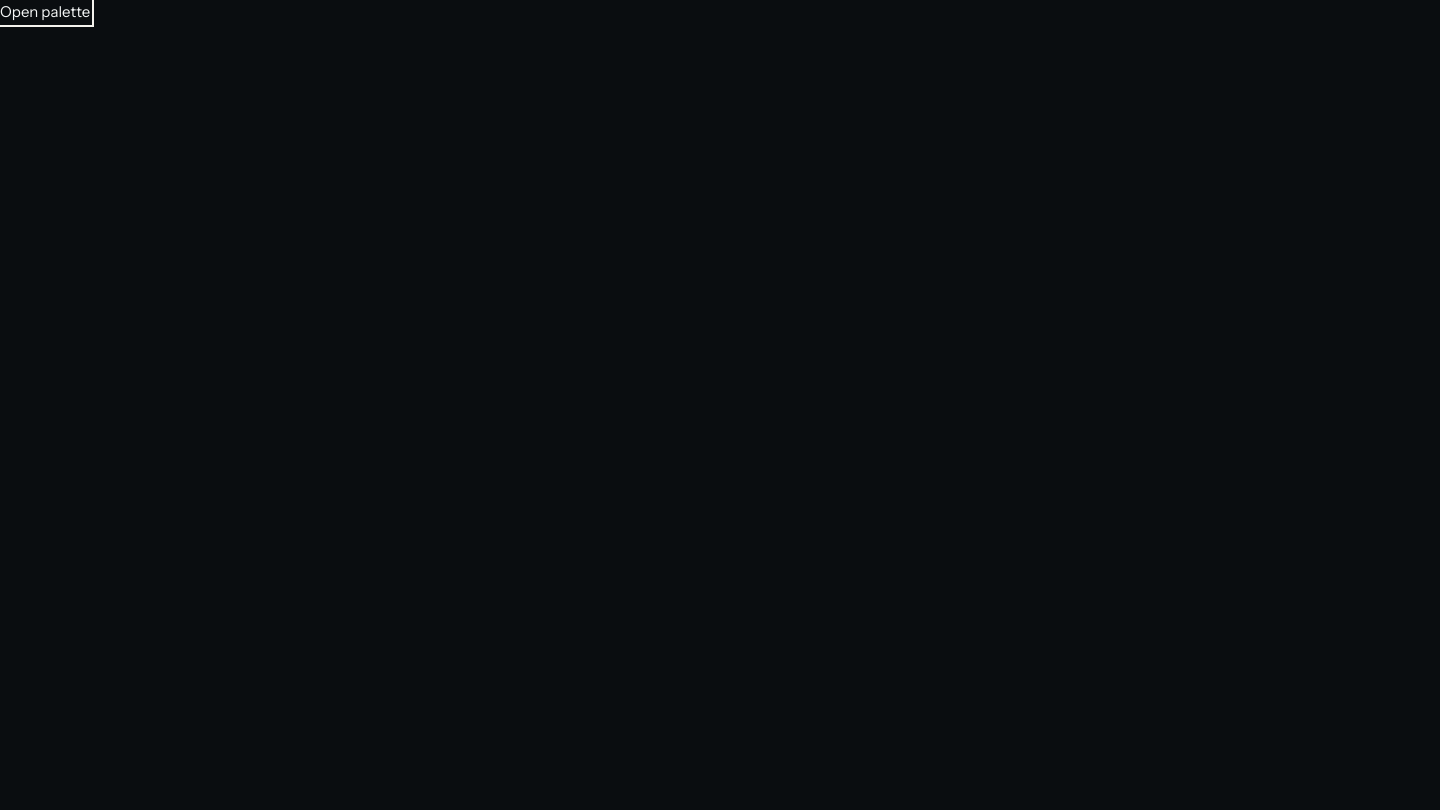
Scenario: the quick switcher: scope and order (docs/index-spec.md §4.2) › says so, and still offers the message search, when nothing matches
Type keys "{Control>}k{/Control}"
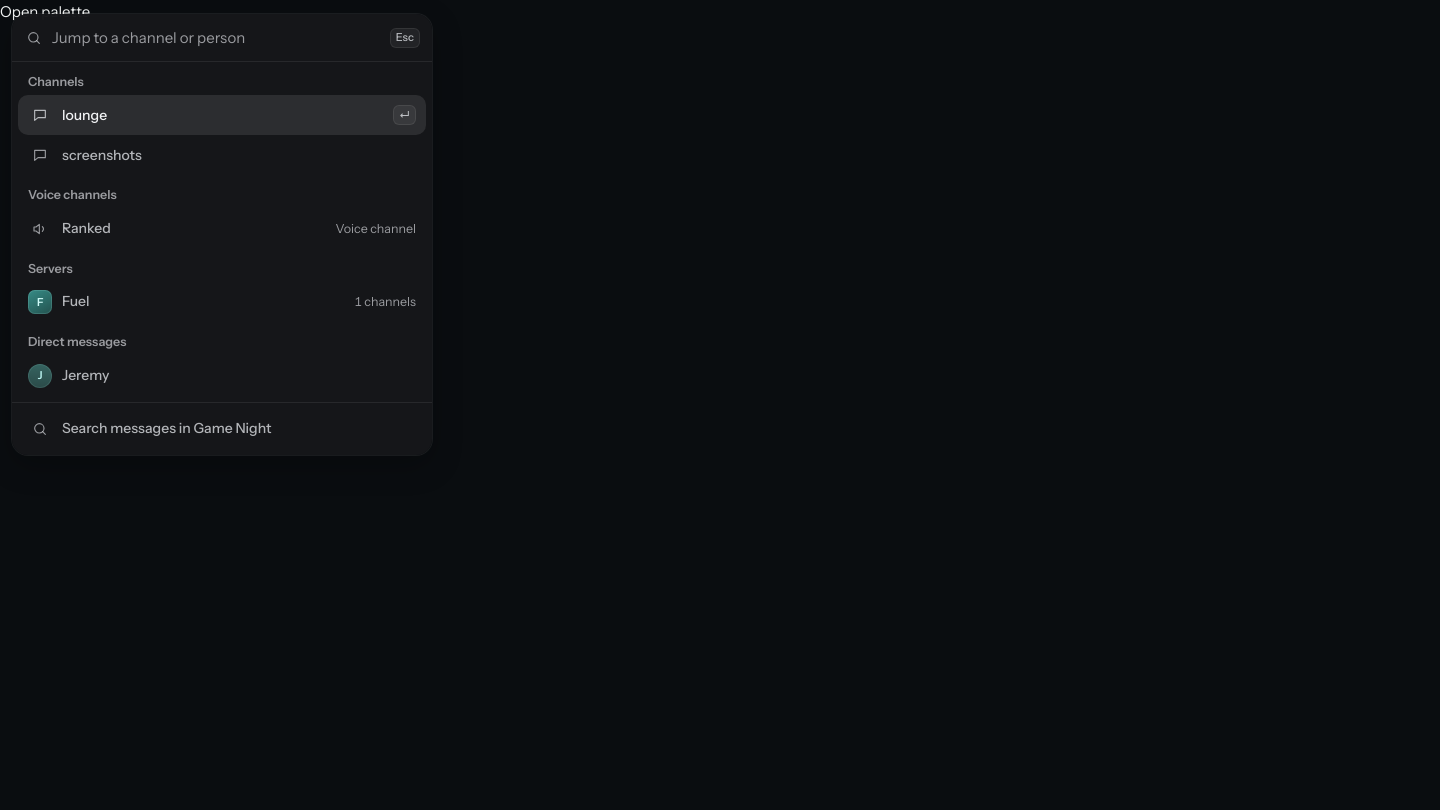
Expected: the dialog named "Quick switcher" is shown, [12,14,432,454]
In the dropdown named "Search the quick switcher": coordinates (216, 38) [52,14,380,61], type "zzzz"
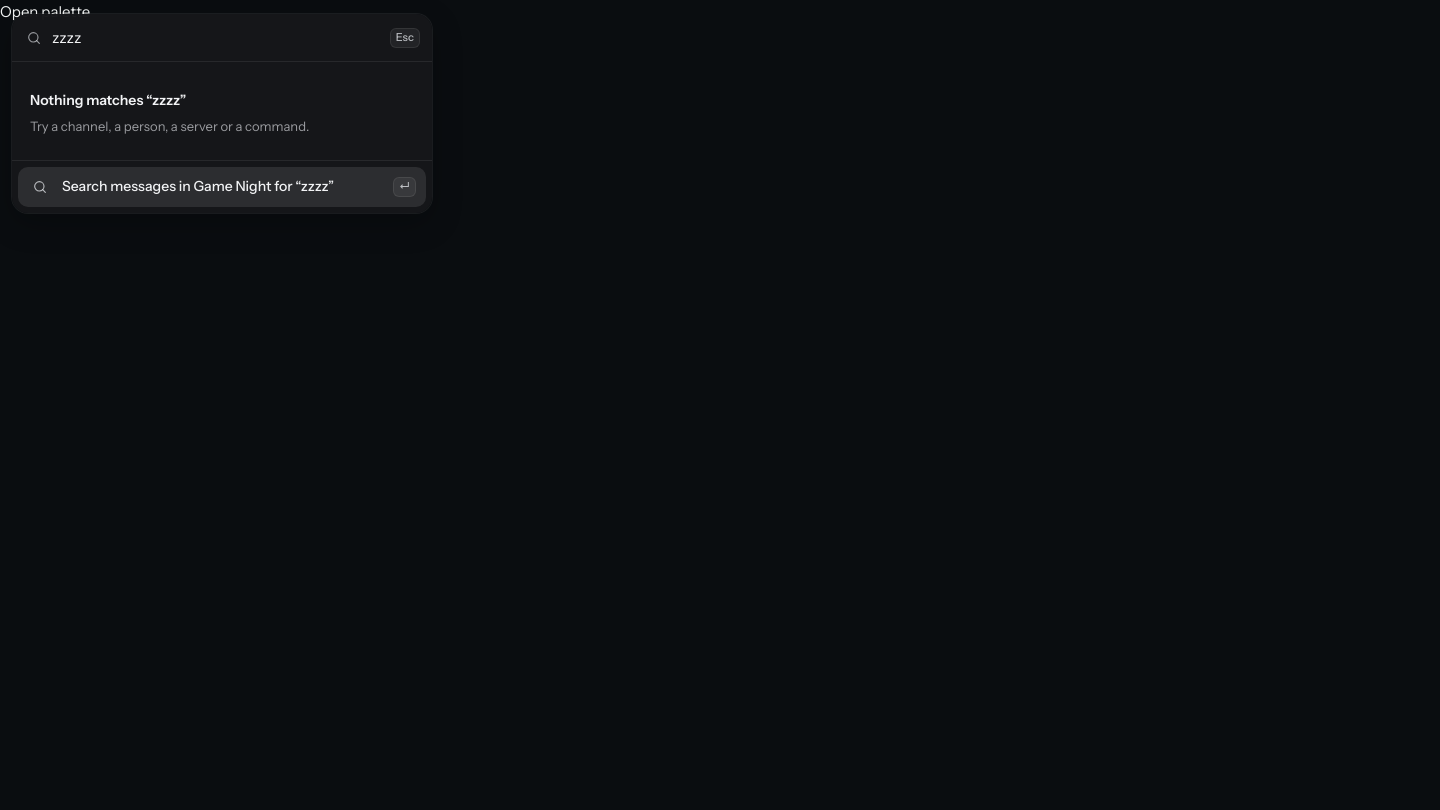
Expected: the text "Nothing matches “zzzz”" is shown, [30,91,186,109]
Expected: the option "Search messages in Game Night for “zzzz” ↵" is shown, [18,167,426,207]
